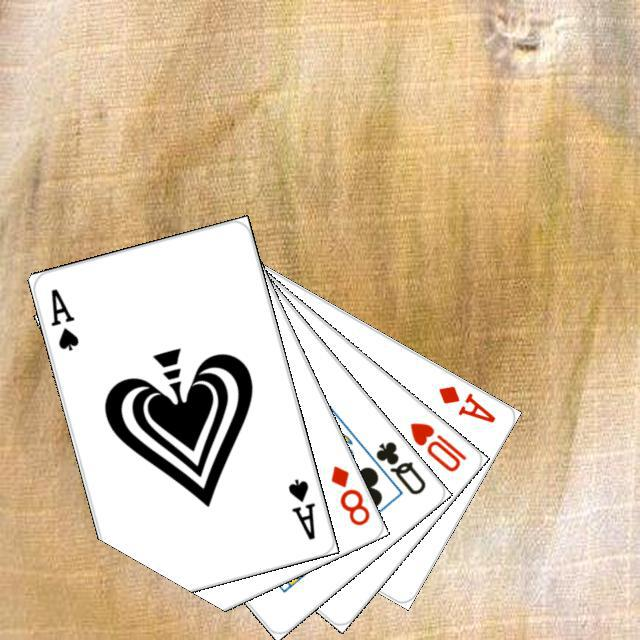10h: (404, 417, 469, 474)
8d: (325, 460, 372, 528)
Ad: (433, 380, 498, 425)
As: (46, 283, 81, 353), (283, 474, 317, 542)
Qc: (358, 436, 428, 499)
